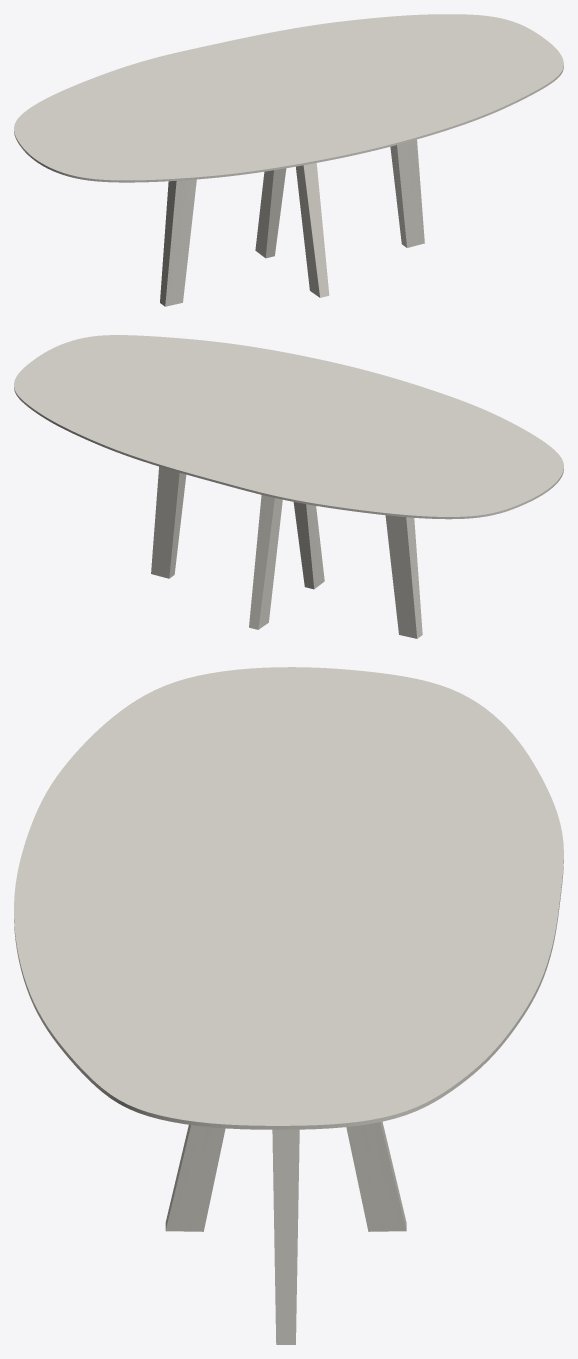
Rendered from pale_danish_facet_searwalnut.glb.
3 views of the same model, one above another, from view 1: azimuth 30°, elevation 25°; view 2: azimuth 150°, elevation 25°; view 3: azimuth 270°, elevation 25° (orthographic). The views are drawn at different scales.
Parts seen in each view (by area): view 1: facet_danish, searwalnut; view 2: facet_danish, searwalnut; view 3: facet_danish, searwalnut.
Boxes of the visible parts, bbox=[...] form: facet_danish: bbox=[14, 14, 563, 182]; searwalnut: bbox=[160, 139, 424, 306]; facet_danish: bbox=[14, 335, 563, 519]; searwalnut: bbox=[151, 466, 422, 638]; facet_danish: bbox=[14, 667, 563, 1129]; searwalnut: bbox=[165, 1121, 406, 1344].
Bounding box in the file's own units: 7.5 × 2.5 × 3.8.
Materials: 1 (1 with a texture image).
